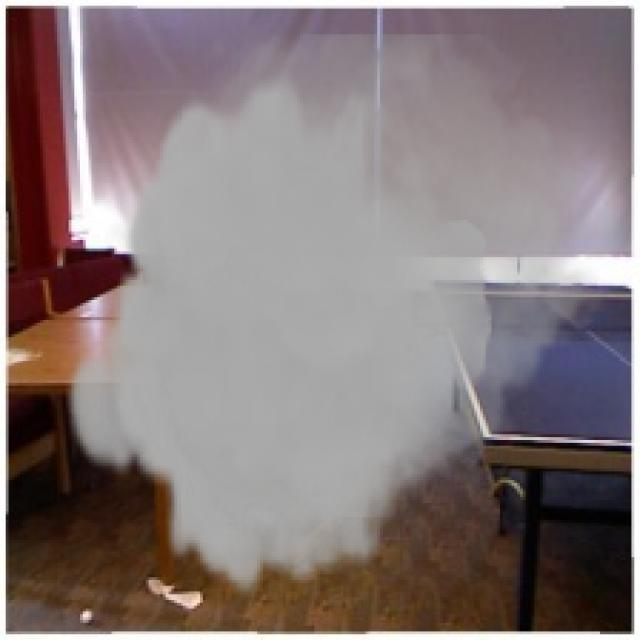Smoke: (62, 34, 608, 597)
